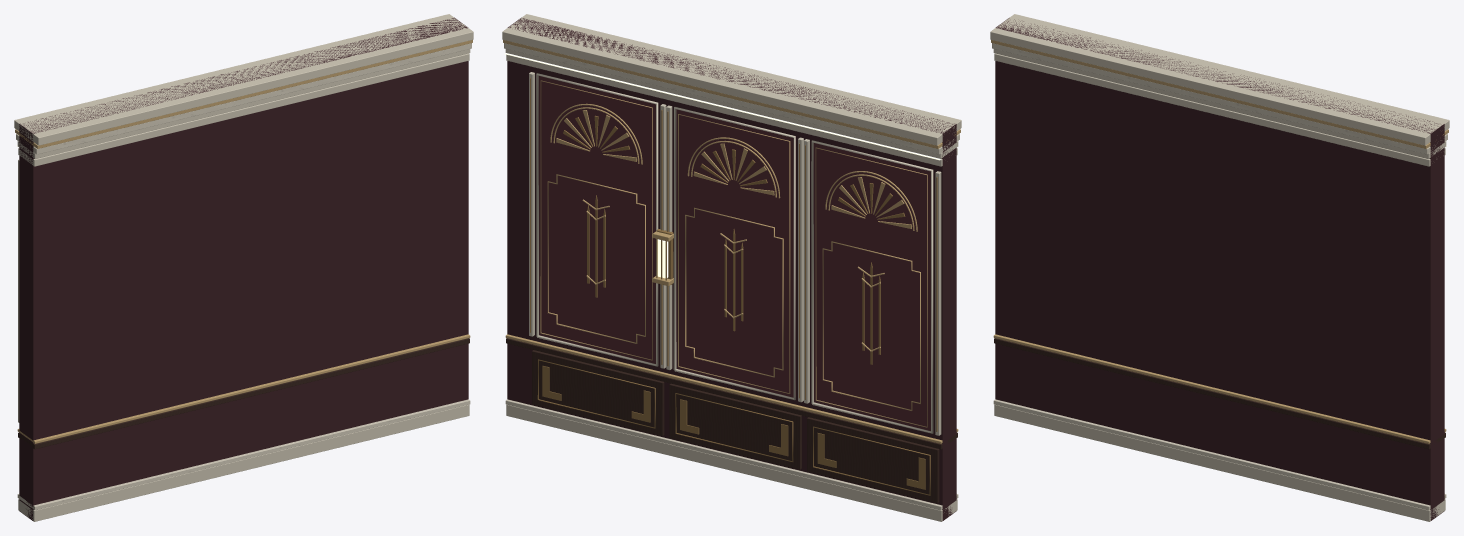
The model's file is casino-deco-casino-wall-sw.glb.
3 renders of one model, left to right at view 1: azimuth 30°, elevation 25°; view 2: azimuth 150°, elevation 25°; view 3: azimuth 330°, elevation 25°, orthographic.
Visible parts, largest first — view 1: casino-wall-sw / Entry deep oxblood reveals, casino-wall-sw / Entry carved limestone, casino-wall-sw / Entry ivory marble, casino-wall-sw / Entry champagne brass, casino-wall-sw / Entry dark walnut; view 2: casino-wall-sw / Entry smoky oxblood lacquer, casino-wall-sw / Entry carved limestone, casino-wall-sw / Entry deep oxblood reveals, casino-wall-sw / Entry dark walnut, casino-wall-sw / Entry champagne brass, casino-wall-sw / Entry aged bronze, casino-wall-sw / Entry ivory marble, casino-wall-sw / Entry warm opal; view 3: casino-wall-sw / Entry deep oxblood reveals, casino-wall-sw / Entry carved limestone, casino-wall-sw / Entry ivory marble, casino-wall-sw / Entry champagne brass, casino-wall-sw / Entry dark walnut.
Boxes of the visible parts, bbox=[...] form: casino-wall-sw / Entry deep oxblood reveals: bbox=[19, 17, 468, 520]; casino-wall-sw / Entry carved limestone: bbox=[14, 14, 473, 521]; casino-wall-sw / Entry ivory marble: bbox=[16, 43, 471, 510]; casino-wall-sw / Entry champagne brass: bbox=[15, 40, 472, 443]; casino-wall-sw / Entry dark walnut: bbox=[18, 338, 469, 449]; casino-wall-sw / Entry smoky oxblood lacquer: bbox=[538, 76, 930, 430]; casino-wall-sw / Entry carved limestone: bbox=[502, 14, 961, 521]; casino-wall-sw / Entry deep oxblood reveals: bbox=[507, 17, 956, 520]; casino-wall-sw / Entry dark walnut: bbox=[506, 338, 957, 503]; casino-wall-sw / Entry champagne brass: bbox=[503, 40, 960, 443]; casino-wall-sw / Entry aged bronze: bbox=[530, 78, 937, 495]; casino-wall-sw / Entry ivory marble: bbox=[504, 43, 959, 510]; casino-wall-sw / Entry warm opal: bbox=[504, 53, 940, 278]; casino-wall-sw / Entry deep oxblood reveals: bbox=[995, 18, 1444, 520]; casino-wall-sw / Entry carved limestone: bbox=[990, 14, 1449, 521]; casino-wall-sw / Entry ivory marble: bbox=[992, 43, 1447, 510]; casino-wall-sw / Entry champagne brass: bbox=[991, 40, 1448, 443]; casino-wall-sw / Entry dark walnut: bbox=[994, 338, 1445, 449].
Size of the model in its own units: 8 by 6.8 by 0.833.
8 materials, 2 textured.
